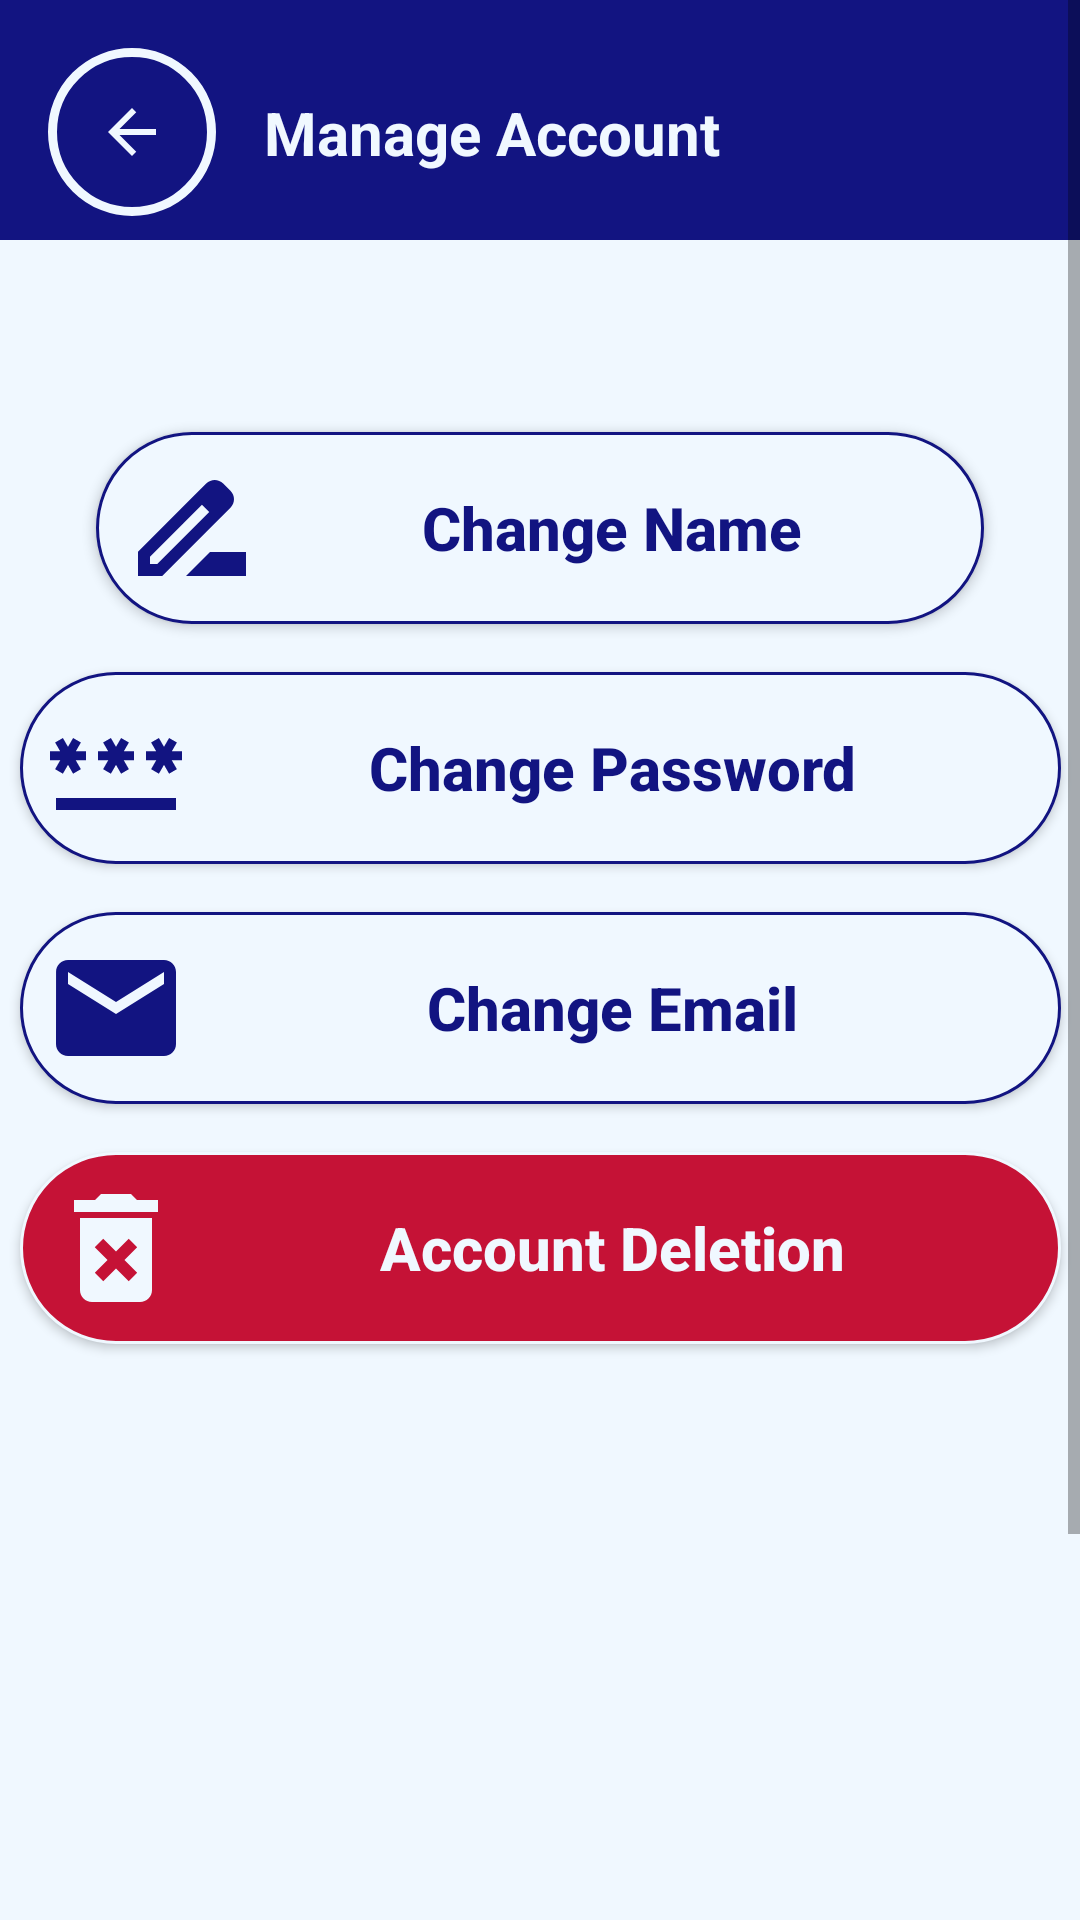

Icons on this 1080 × 1920 Android screen, each with its box as (x1, y1, x2, y2):
Back Button: (48, 48, 216, 216)
